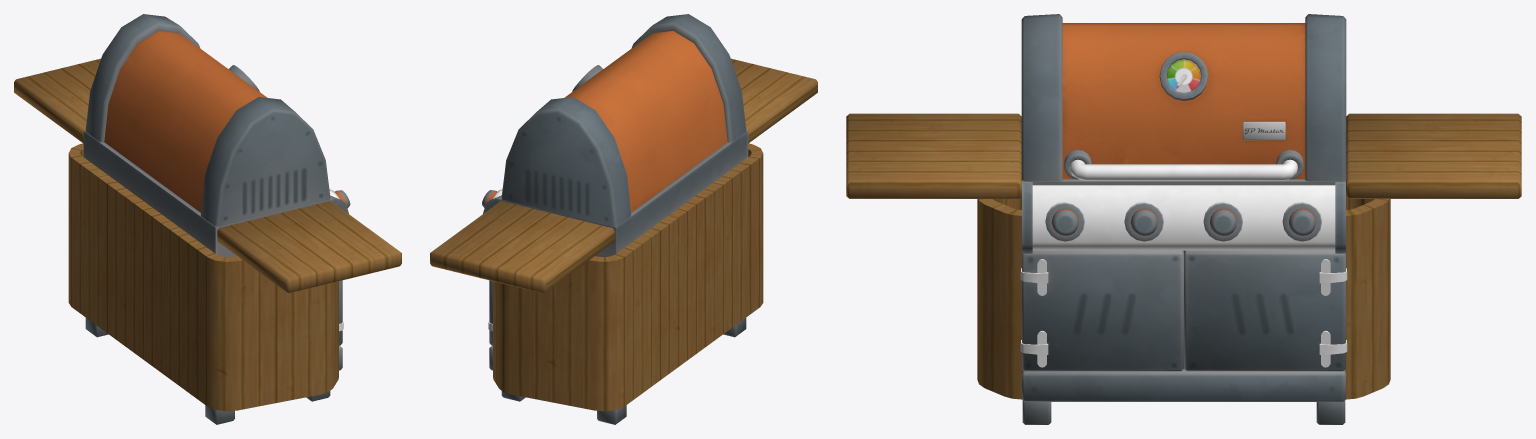
Rendered from BBQGrill.glb.
3 views of the same model, side by side, from view 1: azimuth 30°, elevation 25°; view 2: azimuth 150°, elevation 25°; view 3: azimuth 270°, elevation 25° (orthographic). The views are drawn at different scales.
Visible parts, largest first — view 1: bbqJoined, bbqSideTable, bbqLeg; view 2: bbqJoined, bbqSideTable, bbqLeg; view 3: bbqJoined, bbqSideTable, bbqCookingKnob, bbqLeg, bbqHinge, bbqHinge.001, bbqHandleKnob.
Part boxes in pixels (left/top/right/bottom): bbqJoined: left=68, top=14, right=348, bottom=411; bbqSideTable: left=14, top=58, right=401, bottom=293; bbqLeg: left=85, top=318, right=330, bottom=424; bbqJoined: left=483, top=14, right=763, bottom=411; bbqSideTable: left=430, top=58, right=817, bottom=293; bbqLeg: left=501, top=318, right=746, bottom=424; bbqJoined: left=977, top=14, right=1390, bottom=401; bbqSideTable: left=846, top=113, right=1521, bottom=198; bbqCookingKnob: left=1045, top=201, right=1321, bottom=241; bbqLeg: left=1022, top=400, right=1345, bottom=424; bbqHinge: left=1020, top=330, right=1347, bottom=367; bbqHinge.001: left=1020, top=259, right=1347, bottom=295; bbqHandleKnob: left=1064, top=150, right=1303, bottom=179.
Size of what is drawn, in the model's own units: 0.9426 by 1.71 by 2.81.
1 material, 1 textured.
